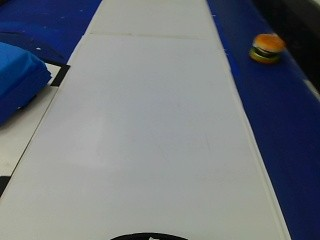burger: (247, 29, 282, 69)
